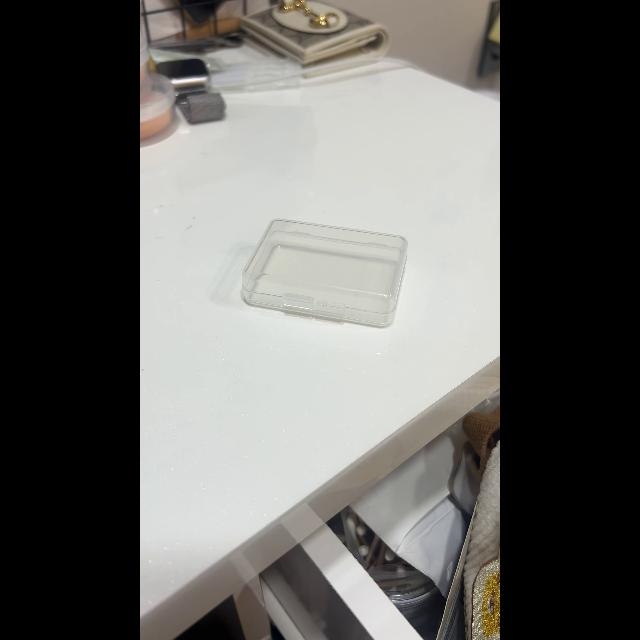clean: (240, 217, 410, 327)
